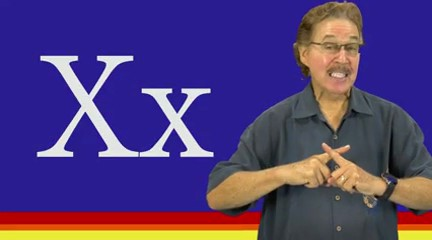X: (291, 138, 380, 196)
